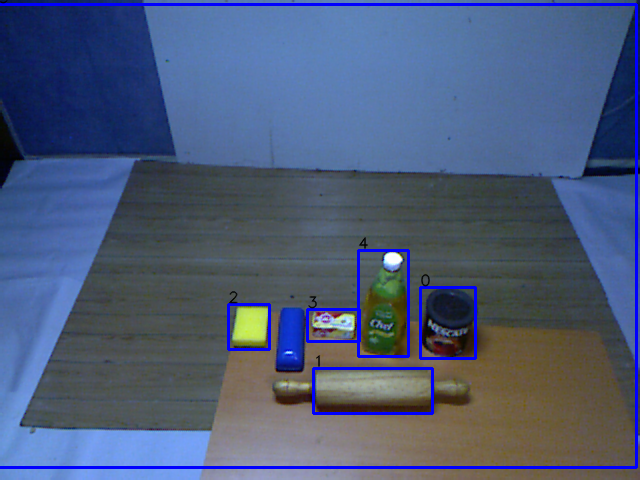aceite: (356, 250, 411, 365)
borrador: (272, 301, 309, 372)
cafe: (415, 283, 484, 364)
esponja: (230, 303, 271, 350)
mantequilla: (307, 303, 360, 343)
uslero: (268, 362, 477, 415)
